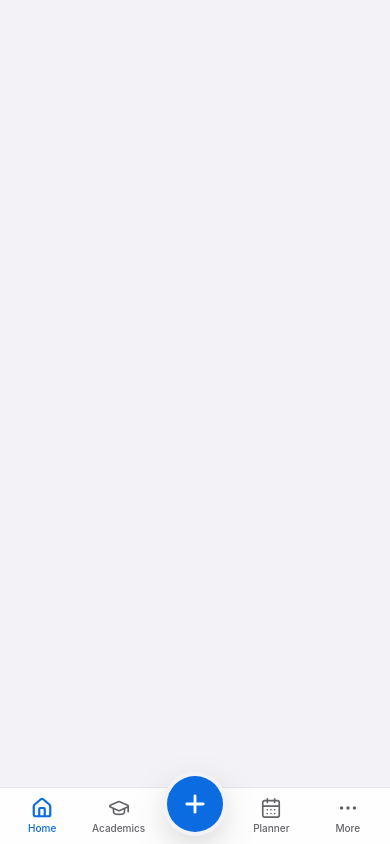
mobile bottom navigation › the + button opens the existing Quick Add menu with all actions
Click the button named "Quick add".
click(195, 804)  # box [167,776,223,832]
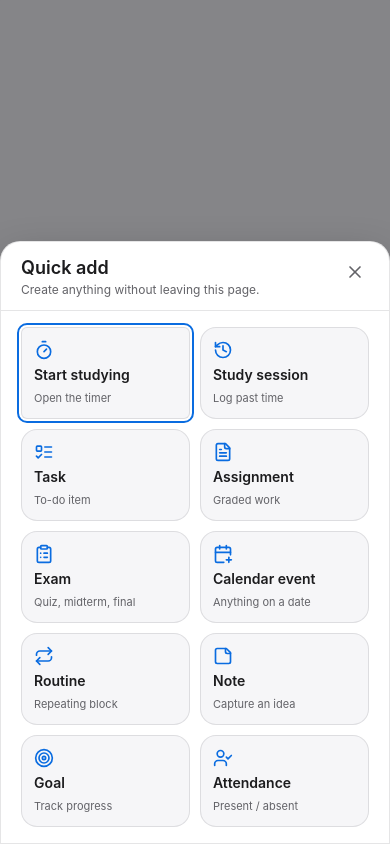
Expected: the text "Start studying" is shown, [34,366,130,384]
Expected: the text "Study session" is shown, [213,366,308,384]
Expected: the text "Task" is shown, [34,468,66,486]
